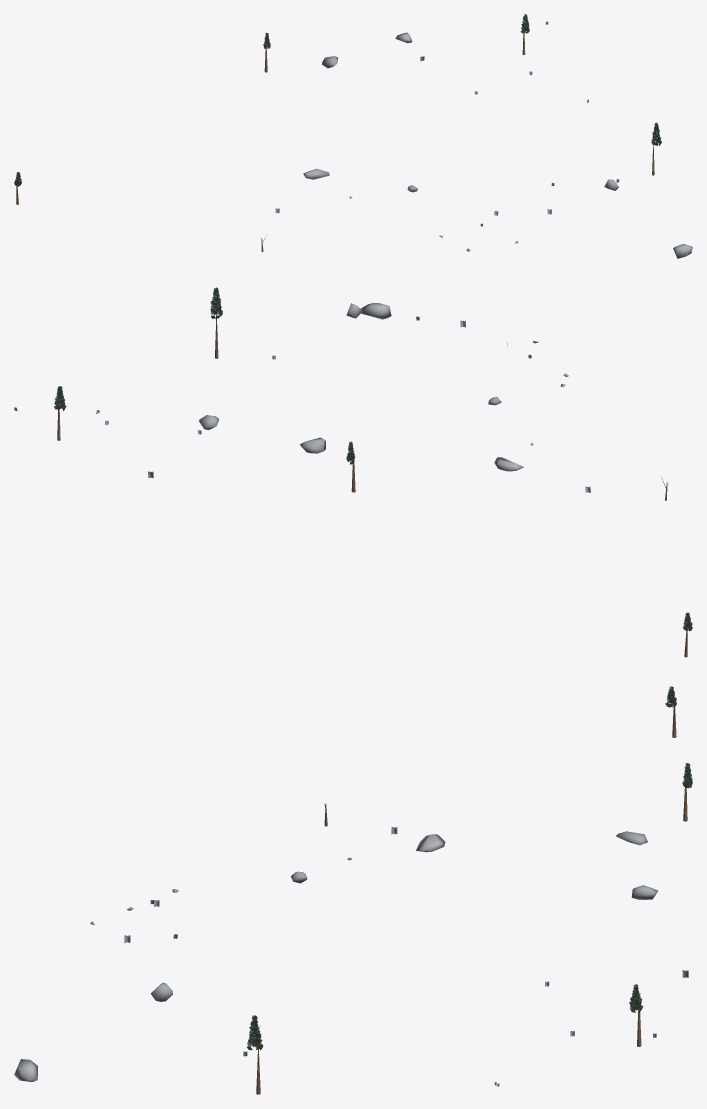
Rendered from frost_land_scatter_c16_12_lod1.glb.
The picture shows the model from 3 angles, top to bottom: view 1: azimuth 30°, elevation 25°; view 2: azimuth 150°, elevation 25°; view 3: azimuth 270°, elevation 25°; orthographic projection. The views are drawn at different scales.
Visible parts, largest first — view 1: frost_land_scatter_c16_12_lod1; view 2: frost_land_scatter_c16_12_lod1; view 3: frost_land_scatter_c16_12_lod1.
Boxes of the visible parts, x1,y1,x2,y2 form: frost_land_scatter_c16_12_lod1: (14, 14, 692, 258); frost_land_scatter_c16_12_lod1: (14, 287, 692, 657); frost_land_scatter_c16_12_lod1: (14, 686, 692, 1094).
Size of the model in its own units: 145 by 29.45 by 106.
